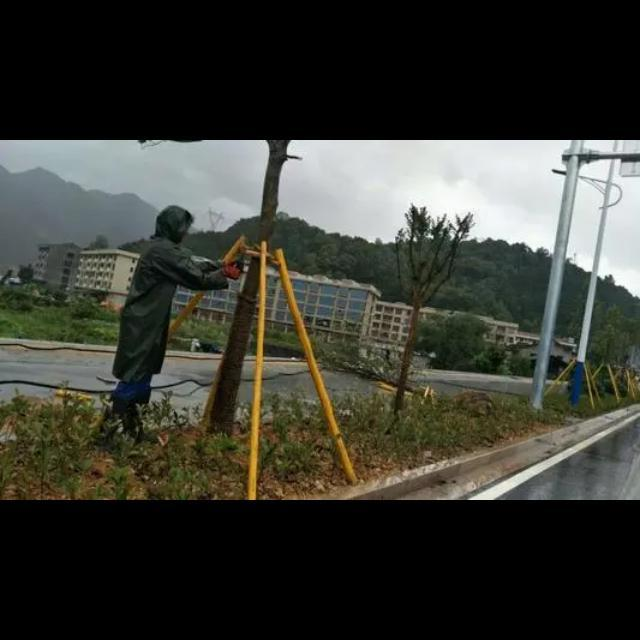fallen_tree: (319, 334, 469, 410)
